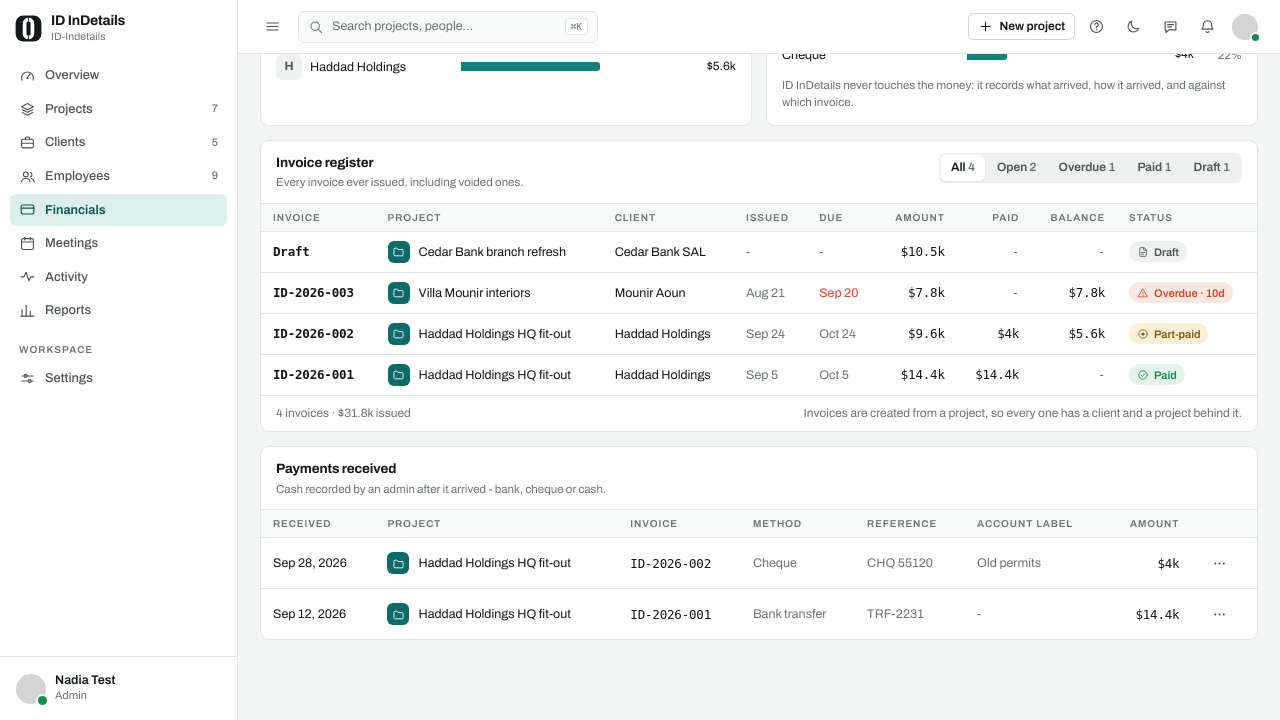
the Label action › changes a label, clears it, and keeps an archived label of its own on offer as archived
(page scrolled)
What coordinates should you click on to do the following:
click the button named "Payment of Sep 28 actions"
I would click on:
 (1219, 563)
Its box is left=1203, top=547, right=1235, bottom=579.
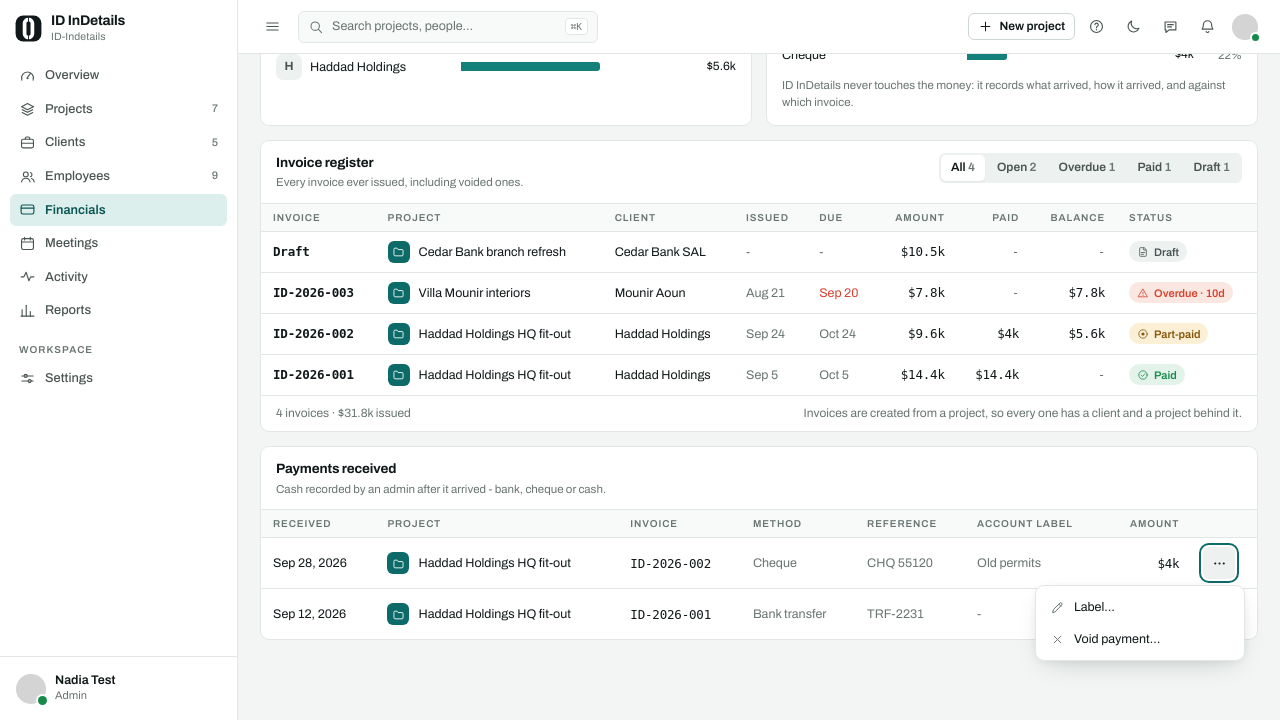
What coordinates should you click on to do the following:
click the button "Label…"
I would click on:
 (1140, 607)
Its box is left=1041, top=591, right=1239, bottom=623.
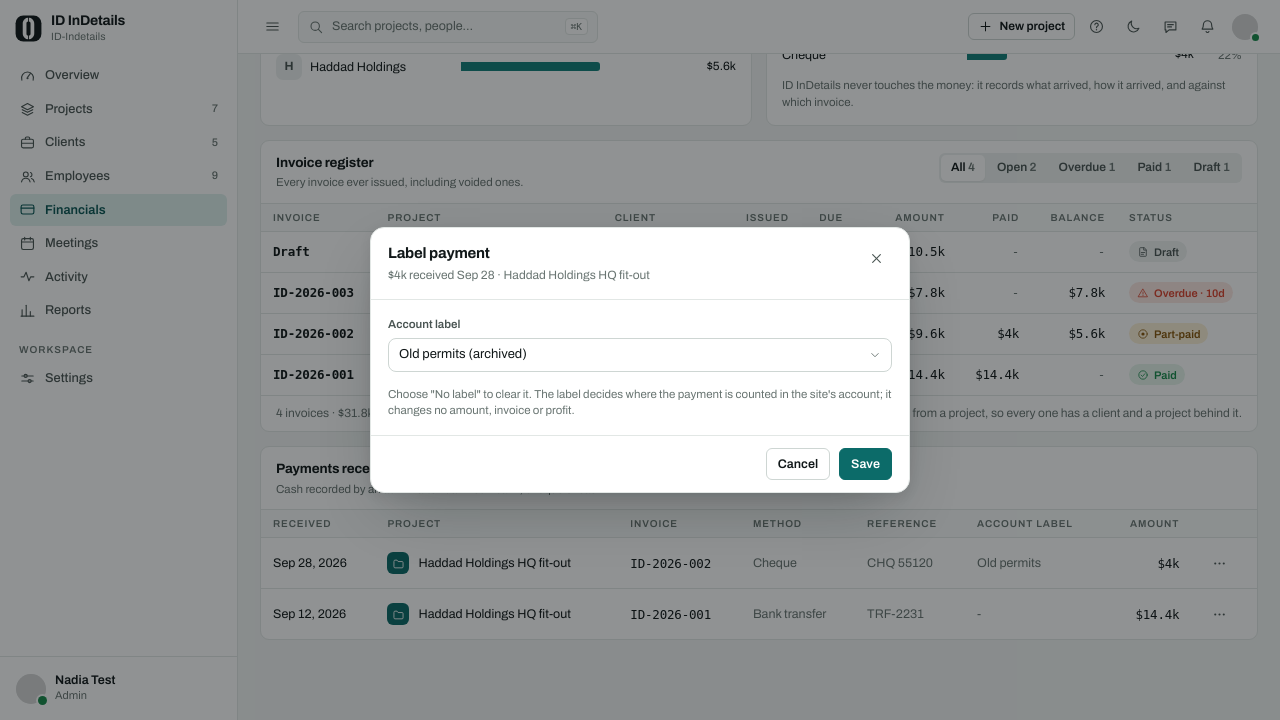
Check: the button named "Account label" reads "Old permits (archived)"
What coordinates should you click on to do the following:
click the button named "Account label"
I would click on:
 (463, 354)
Its box is left=388, top=338, right=892, bottom=372.
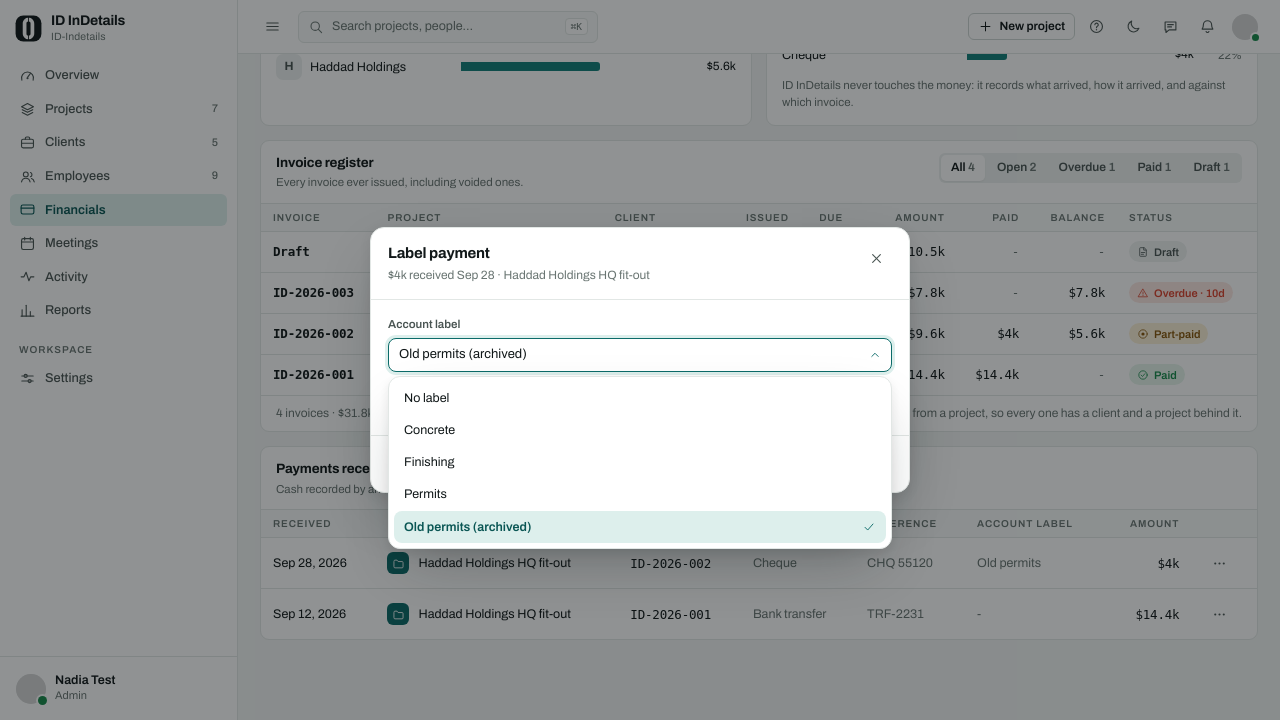
Check: the option "Concrete" is shown, box left=404, top=423, right=455, bottom=437
Check: the options read "No label", "Concrete", "Finishing", "Permits", "Old permits (archived)", in this order
What coordinates should you click on to do the following:
click the option "No label"
I would click on:
 (427, 398)
Its box is left=404, top=391, right=449, bottom=405.
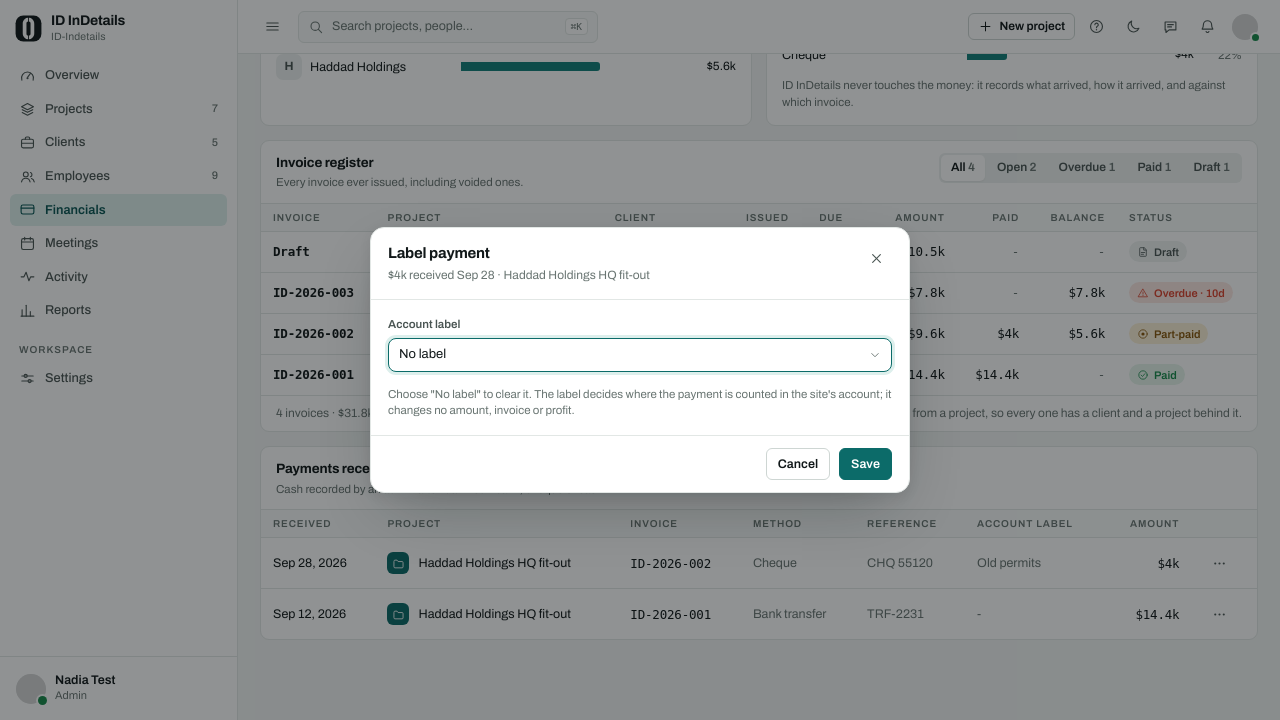
What coordinates should you click on to do the following:
click the button "Save"
I would click on:
 (866, 464)
Its box is left=839, top=448, right=892, bottom=480.
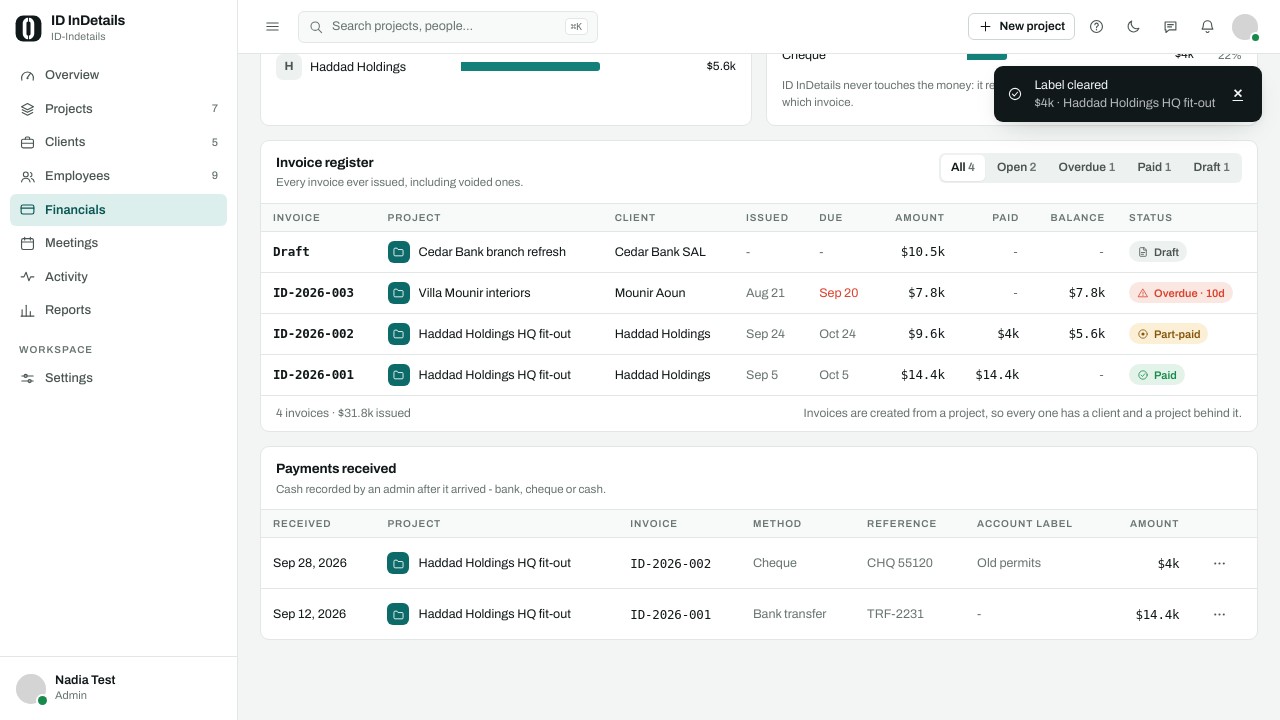
Check: the text "Label cleared" is shown, box left=1034, top=78, right=1108, bottom=92
